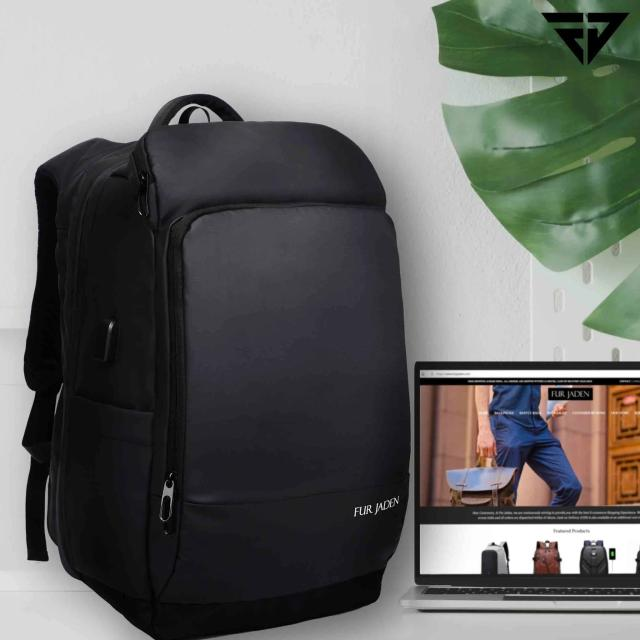backpack: (23, 94, 412, 640)
